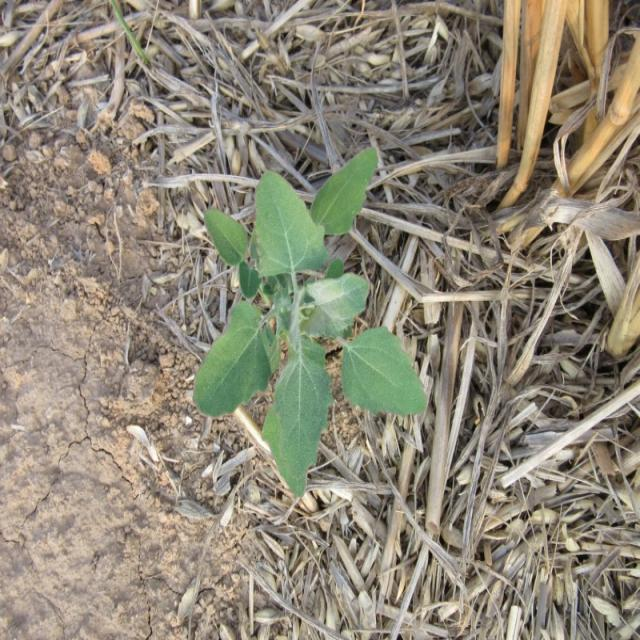ca: (192, 154, 427, 497)
